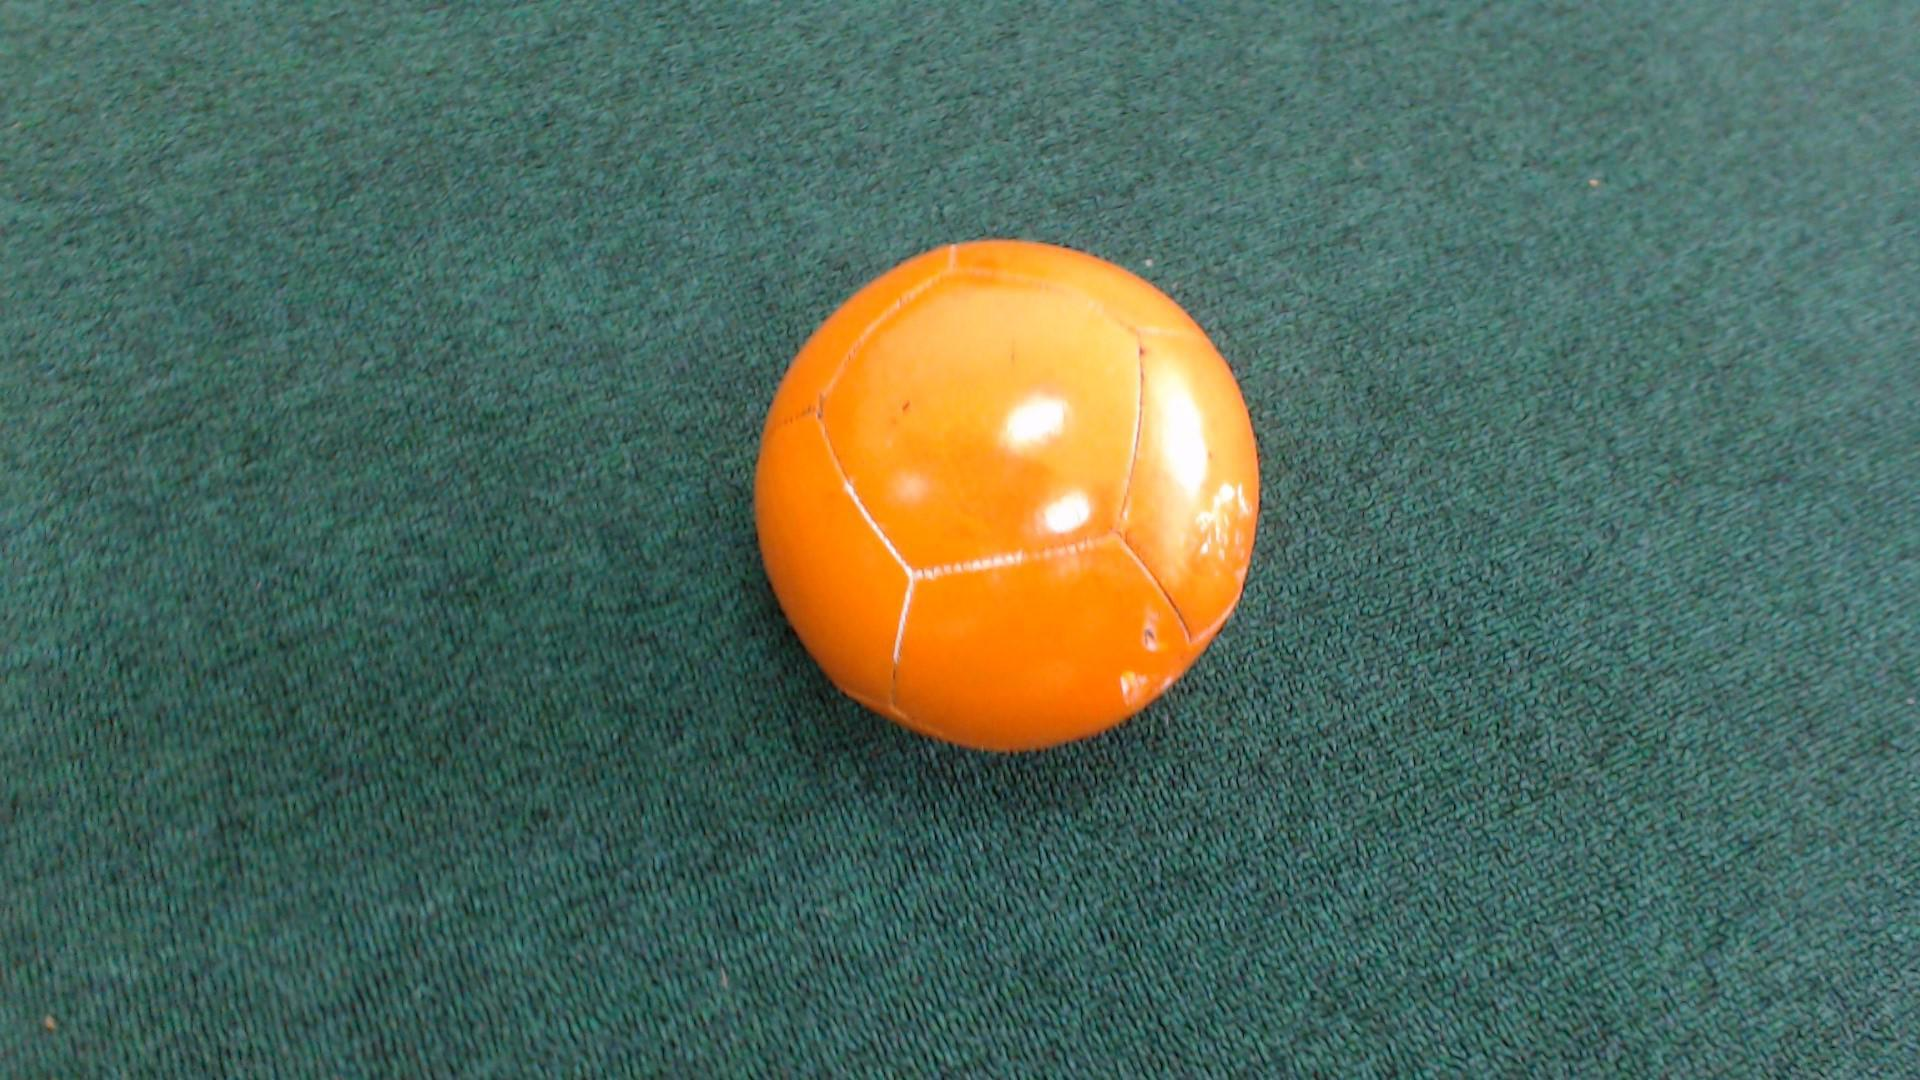bola: (708, 215, 1329, 789)
